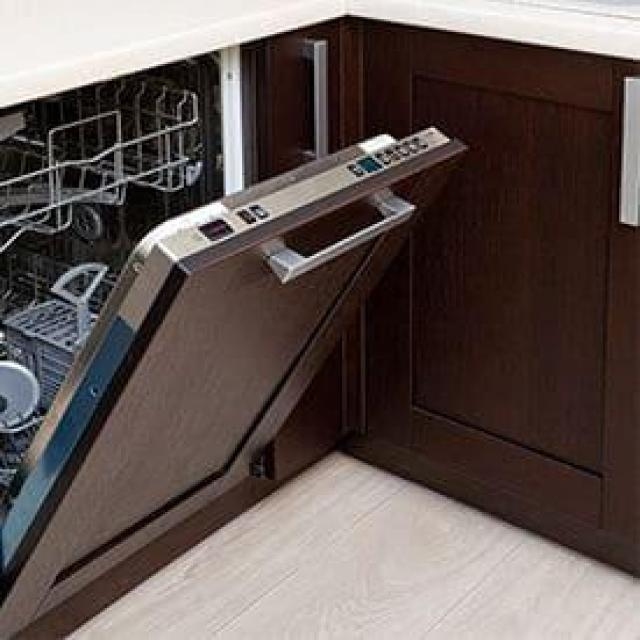dishwasher: (0, 38, 463, 600)
